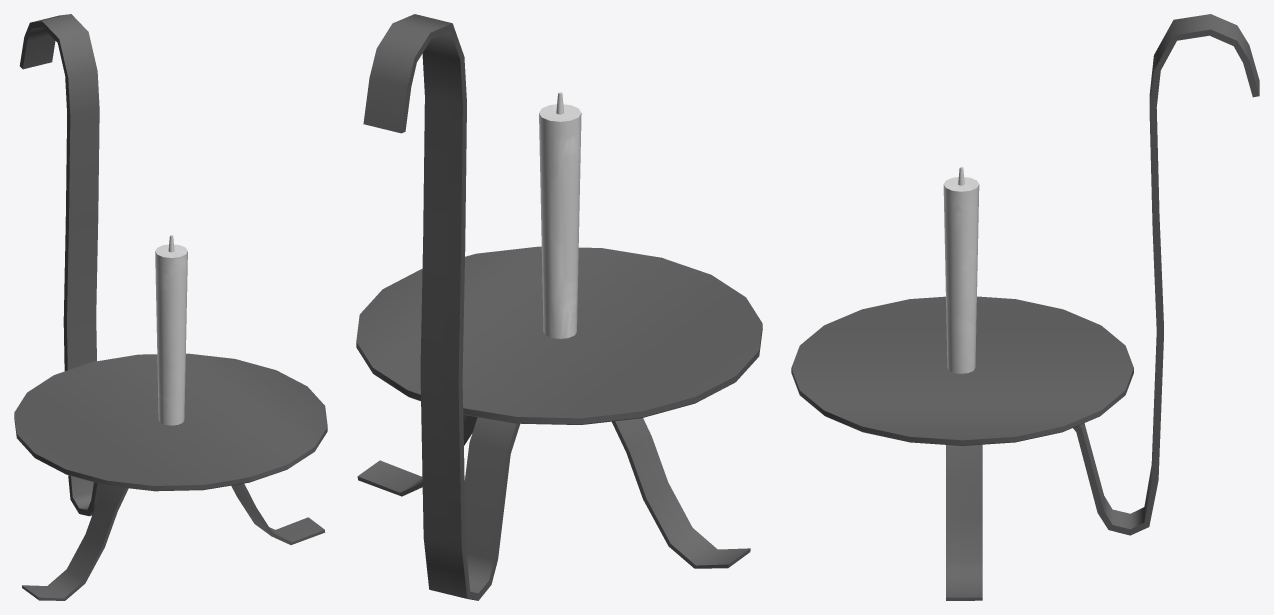
File: syokudai.fbx
3 renders of one model, left to right at view 1: azimuth 30°, elevation 25°; view 2: azimuth 150°, elevation 25°; view 3: azimuth 270°, elevation 25°, orthographic. The views are drawn at different scales.
Parts seen in each view (by area): view 1: pCylinder1, pCube1, rousoku, pCube2; view 2: pCylinder1, pCube1, rousoku, pCube2; view 3: pCylinder1, pCube1, rousoku, pCube2.
Part boxes in pixels (x1,y1,x2,y2): pCylinder1: [14, 353, 327, 491]; pCube1: [19, 14, 104, 516]; rousoku: [155, 235, 187, 425]; pCube2: [22, 483, 325, 600]; pCylinder1: [356, 246, 762, 424]; pCube1: [363, 14, 520, 600]; rousoku: [539, 92, 581, 338]; pCube2: [357, 415, 750, 568]; pCylinder1: [791, 296, 1133, 445]; pCube1: [1073, 14, 1259, 535]; rousoku: [943, 167, 979, 373]; pCube2: [946, 444, 982, 600].
Size of the model in its own units: 62.05 by 96.52 by 80.81.
